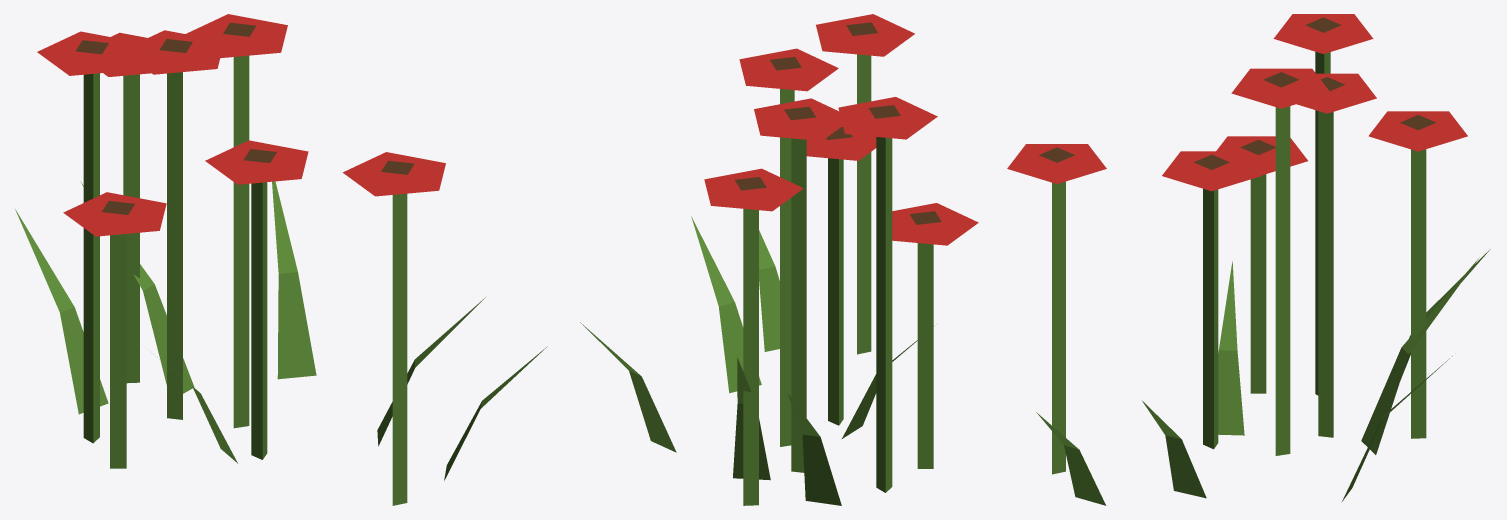
Rendered from coquelicots.glb.
3 views of the same model, side by side, from view 1: azimuth 30°, elevation 25°; view 2: azimuth 150°, elevation 25°; view 3: azimuth 270°, elevation 25° (orthographic). The views are drawn at different scales.
Parts seen in each view (by area): view 1: coquelicots; view 2: coquelicots; view 3: coquelicots.
Boxes of the visible parts, x1,y1,x2,y2 form: coquelicots: (15,14,547,505); coquelicots: (580,14,978,505); coquelicots: (1007,14,1490,505).
Bounding box in the file's own units: 0.5111 × 0.5485 × 0.6469.
1 material, 1 textured.
